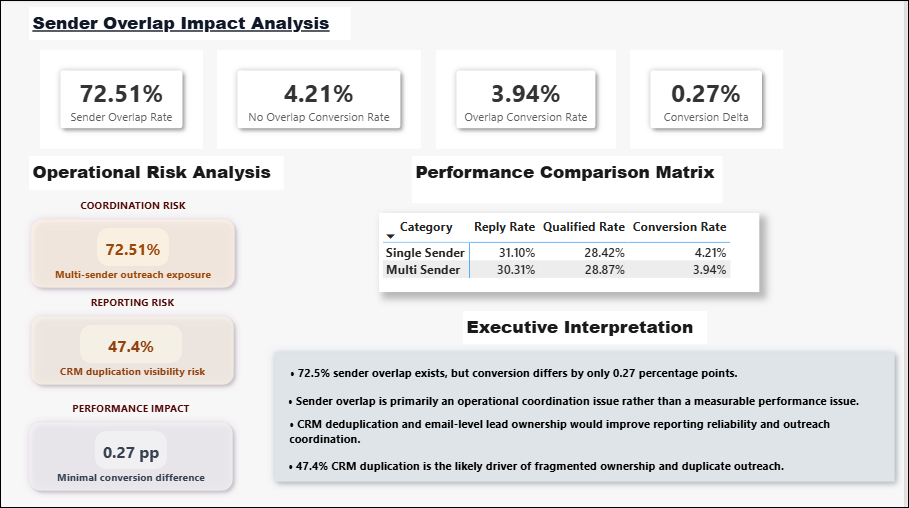

The page's visual inventory and layout, read from the dashboard file:
{"tool":"powerbi","page":{"name":"Page 2","canvas":[1280,720],"ordinal":1},"visuals":[{"type":"textbox","box":[41.1,11.3,456.4,46.8],"z":0},{"type":"cardVisual","fields":{"Data":["Measuress.Overlap Conversion Rate"]},"box":[617.5,72.3,255.1,140.3],"z":1000},{"type":"cardVisual","fields":{"Data":["Measuress.Sender Overlap Rate"]},"box":[56.7,72.3,231,140.3],"z":2000},{"type":"cardVisual","fields":{"Data":["Measuress.No Overlap Conversion Rate"]},"box":[308,72.3,289.1,140.3],"z":3000},{"type":"cardVisual","fields":{"Data":["Measuress.Conversion Delta"]},"box":[892.9,72.3,216.9,140.3],"z":4000},{"type":"textbox","box":[41.1,222.5,361.4,48.2],"z":5000},{"type":"shape","title":"COORDINATION RISK","box":[34,282,309,137.5],"z":6000},{"type":"shape","box":[137.5,324.6,102,53.9],"z":7000},{"type":"shape","title":"REPORTING RISK","box":[34,419.5,307.6,137.5],"z":8000},{"type":"shape","title":"PERFORMANCE IMPACT","box":[31.2,569.8,309,137.5],"z":9000},{"type":"shape","box":[113.4,462,144.6,53.9],"z":10000},{"type":"shape","box":[134.6,612.3,102,53.9],"z":11000},{"type":"textbox","box":[656.2,442.2,345.8,46.8],"z":12000},{"type":"shape","box":[377,489,902.8,206.9],"z":13000},{"type":"shape","box":[405.4,549.9,846.1,39.7],"z":14000},{"type":"shape","box":[405.4,639.2,752.6,42.5],"z":15000},{"type":"shape","box":[405.4,579.7,836.2,63.8],"z":16000},{"type":"pivotTable","title":"Overlap Performance Analysis","fields":{"Rows":["outbound_funnel_analysis analytical_master.Overlap Label"],"Values":["Measuress.Reply Rate","Measuress.Qualified Rate","Measuress.Conversion Rate"]},"box":[537.2,303.3,538.6,112],"z":17000},{"type":"textbox","box":[583.9,222.5,443.6,59.5],"z":18000}]}

Visuals, with their boxes in screenshot pixels (x1, y1, x2, y2), scaled from the page's 1280x720 canvas onto the 909x508 screenshot:
textbox: box=[29, 8, 353, 41]
cardVisual - Measuress.Overlap Conversion Rate: box=[439, 51, 620, 150]
cardVisual - Measuress.Sender Overlap Rate: box=[40, 51, 204, 150]
cardVisual - Measuress.No Overlap Conversion Rate: box=[219, 51, 424, 150]
cardVisual - Measuress.Conversion Delta: box=[634, 51, 788, 150]
textbox: box=[29, 157, 286, 191]
"COORDINATION RISK" shape: box=[24, 199, 244, 296]
shape: box=[98, 229, 170, 267]
"REPORTING RISK" shape: box=[24, 296, 243, 393]
"PERFORMANCE IMPACT" shape: box=[22, 402, 242, 499]
shape: box=[81, 326, 183, 364]
shape: box=[96, 432, 168, 470]
textbox: box=[466, 312, 712, 345]
shape: box=[268, 345, 908, 491]
shape: box=[288, 388, 889, 416]
shape: box=[288, 451, 822, 481]
shape: box=[288, 409, 882, 454]
"Overlap Performance Analysis" pivotTable: box=[381, 214, 764, 293]
textbox: box=[415, 157, 730, 199]
